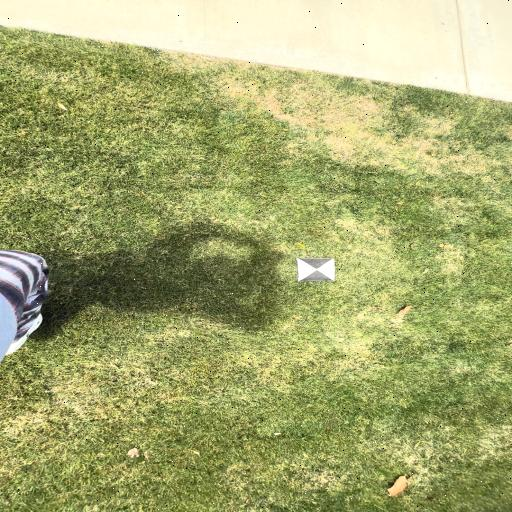target: (298, 258, 334, 281)
